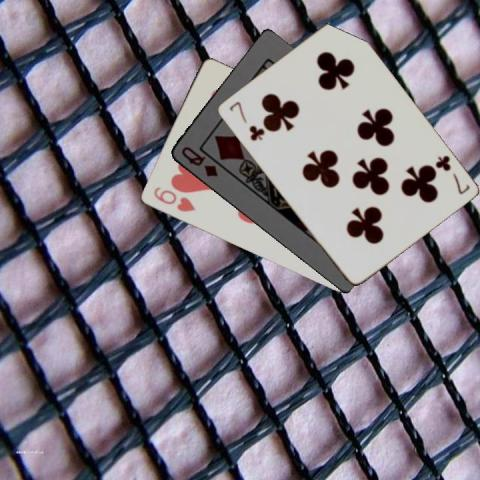6h: (150, 183, 196, 214)
7c: (225, 98, 265, 143), (432, 152, 472, 196)
Qd: (177, 143, 220, 179)
